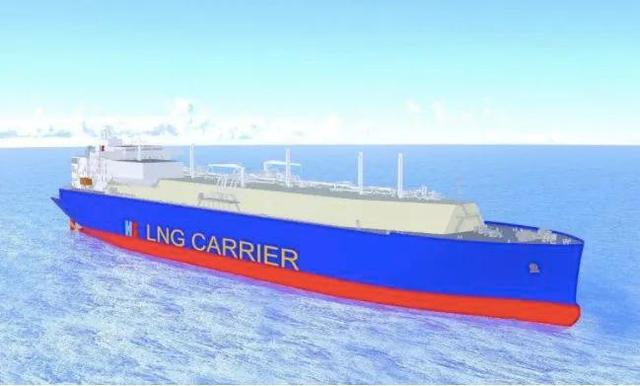Cargoship: (46, 125, 589, 330)
